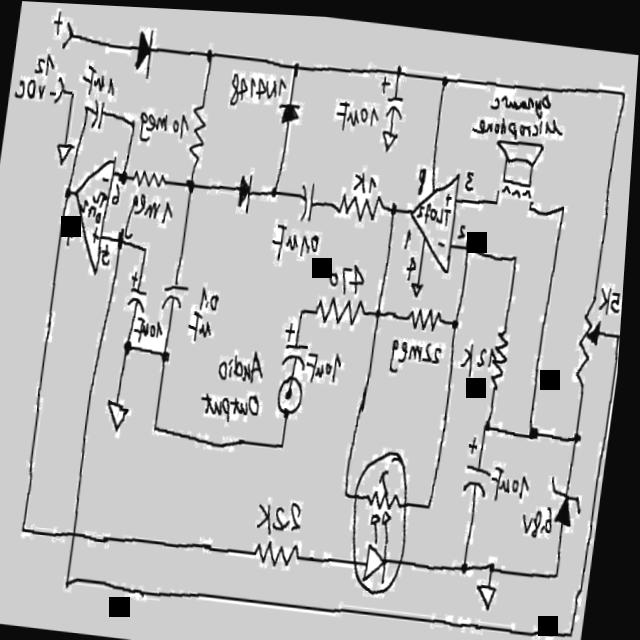capacitor: (468, 428, 503, 492), (285, 316, 317, 367), (378, 69, 410, 116), (129, 269, 156, 311), (300, 173, 322, 219), (166, 277, 195, 308), (91, 94, 109, 130)
crossover: (77, 520, 89, 540)
diode: (552, 467, 593, 530), (131, 23, 158, 81), (237, 166, 258, 212), (278, 95, 305, 124)
ground: (109, 394, 137, 431), (480, 574, 508, 605), (56, 137, 77, 165), (381, 123, 402, 149), (414, 274, 429, 294)
junction: (532, 415, 548, 436), (164, 342, 178, 364), (466, 550, 479, 572), (118, 226, 130, 249), (70, 570, 82, 591), (127, 333, 139, 353), (205, 42, 216, 62), (188, 173, 200, 191), (577, 420, 589, 438), (488, 411, 500, 429), (156, 415, 168, 433), (272, 178, 283, 197), (283, 432, 295, 449), (431, 491, 443, 508), (121, 165, 132, 183), (620, 77, 631, 95), (65, 182, 76, 200), (454, 310, 465, 327), (392, 194, 402, 212), (395, 57, 405, 74), (26, 519, 36, 536), (467, 230, 476, 248), (377, 300, 387, 316), (131, 113, 141, 129), (495, 552, 505, 568), (561, 193, 571, 209), (349, 480, 359, 496), (441, 67, 451, 82), (144, 240, 154, 255), (560, 559, 569, 575), (514, 244, 524, 258), (575, 619, 585, 633), (293, 56, 302, 71), (302, 300, 311, 314), (70, 84, 79, 97), (84, 100, 92, 113), (619, 322, 624, 335)
resistor: (576, 281, 614, 385), (316, 287, 372, 325), (258, 531, 312, 568), (336, 184, 388, 219), (491, 318, 517, 387), (188, 97, 212, 163), (133, 161, 173, 190), (410, 298, 449, 327)
terminal: (280, 369, 311, 416), (62, 18, 77, 50), (54, 73, 68, 103)
text: (469, 102, 573, 146), (126, 187, 182, 244), (271, 212, 326, 267), (227, 66, 291, 110), (203, 383, 267, 423), (262, 489, 313, 536), (392, 331, 449, 373), (138, 105, 193, 146), (491, 79, 555, 112), (222, 340, 272, 381), (494, 456, 539, 499), (335, 94, 382, 135), (464, 333, 504, 373), (309, 343, 349, 382), (331, 255, 372, 290), (526, 495, 562, 534), (82, 61, 121, 97), (351, 162, 384, 193), (15, 72, 50, 101), (82, 186, 111, 221), (137, 313, 171, 341), (418, 196, 457, 219), (190, 307, 218, 339), (600, 275, 627, 308), (202, 281, 225, 311), (35, 50, 58, 76), (66, 215, 84, 245), (407, 248, 423, 276), (52, 7, 66, 36), (418, 160, 431, 189), (103, 239, 117, 264), (466, 162, 479, 186), (113, 179, 126, 203), (460, 216, 472, 236), (95, 222, 103, 243), (446, 184, 456, 200), (409, 222, 416, 242), (440, 232, 451, 244), (49, 85, 60, 96), (102, 172, 114, 182)
